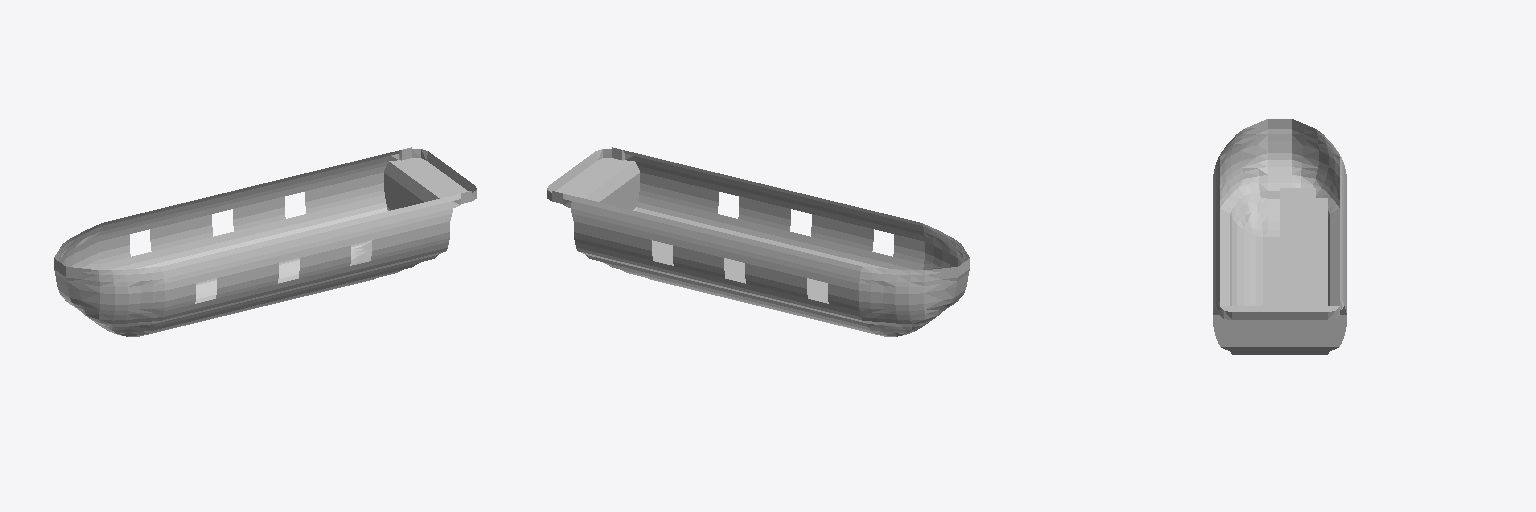
The model's file is BoatHullFlipped.obj.
3 renders of one model, left to right at view 1: azimuth 30°, elevation 25°; view 2: azimuth 150°, elevation 25°; view 3: azimuth 270°, elevation 25°, orthographic.
Size of the model in its own units: 38 by 7.7 by 11.2.